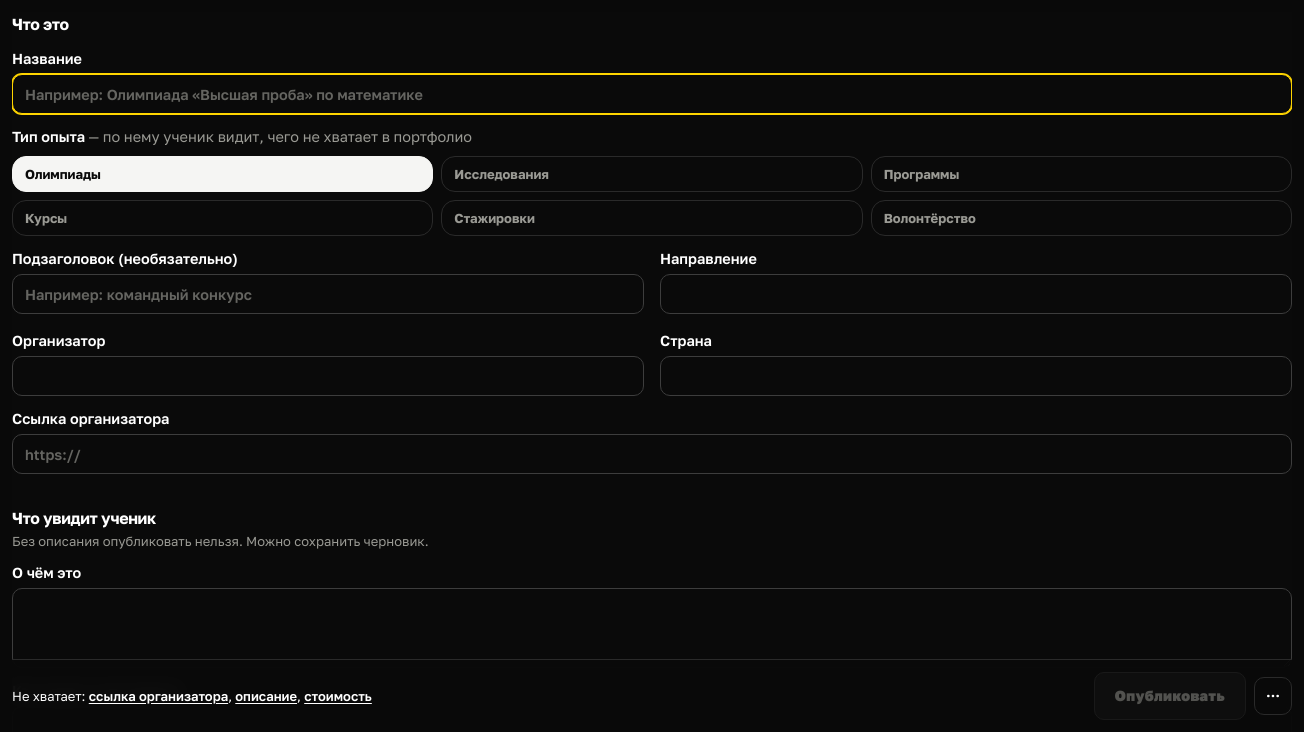
Test: предупреждает о похожей активности в каталоге
Type "Олимпиада по физике" into the field labelled "Название".
click(652, 94); type("Олимпиада по физике")  # box [12,74,1292,114]
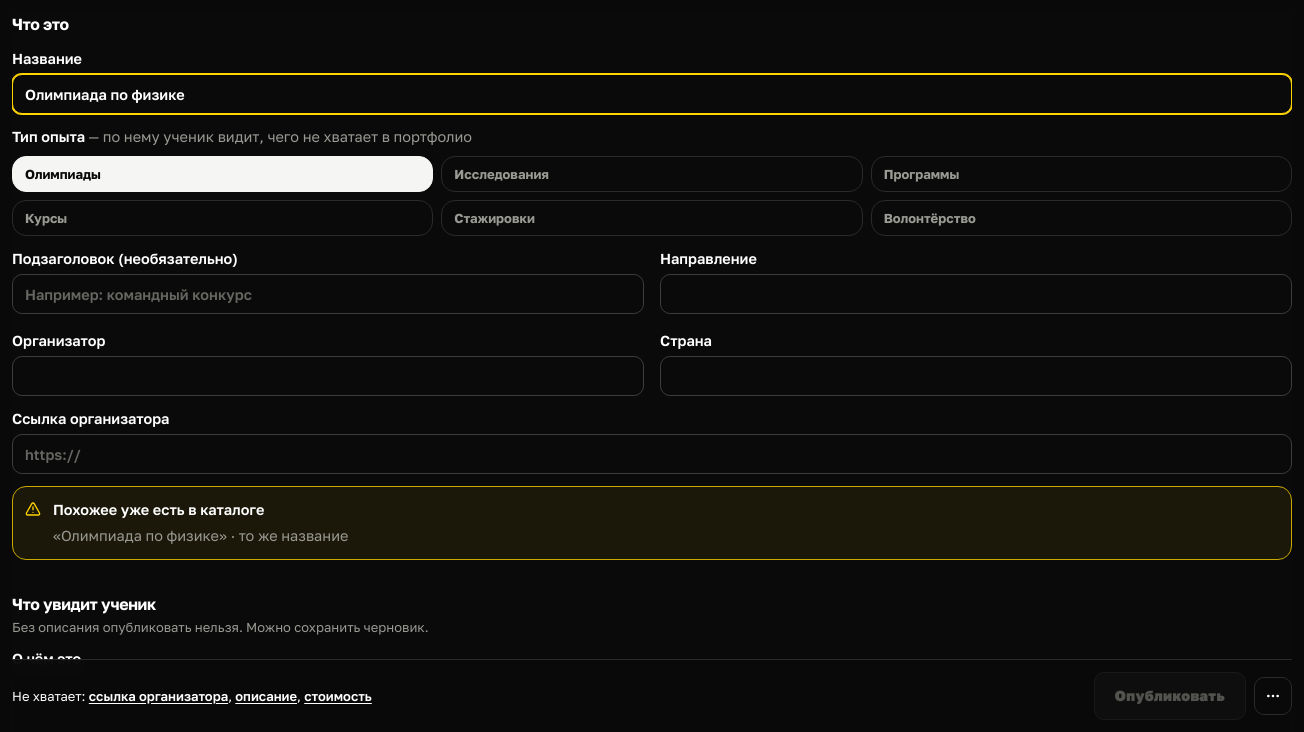
Expected: the text "Похожее уже есть в каталоге" is shown, [53,501,264,518]
